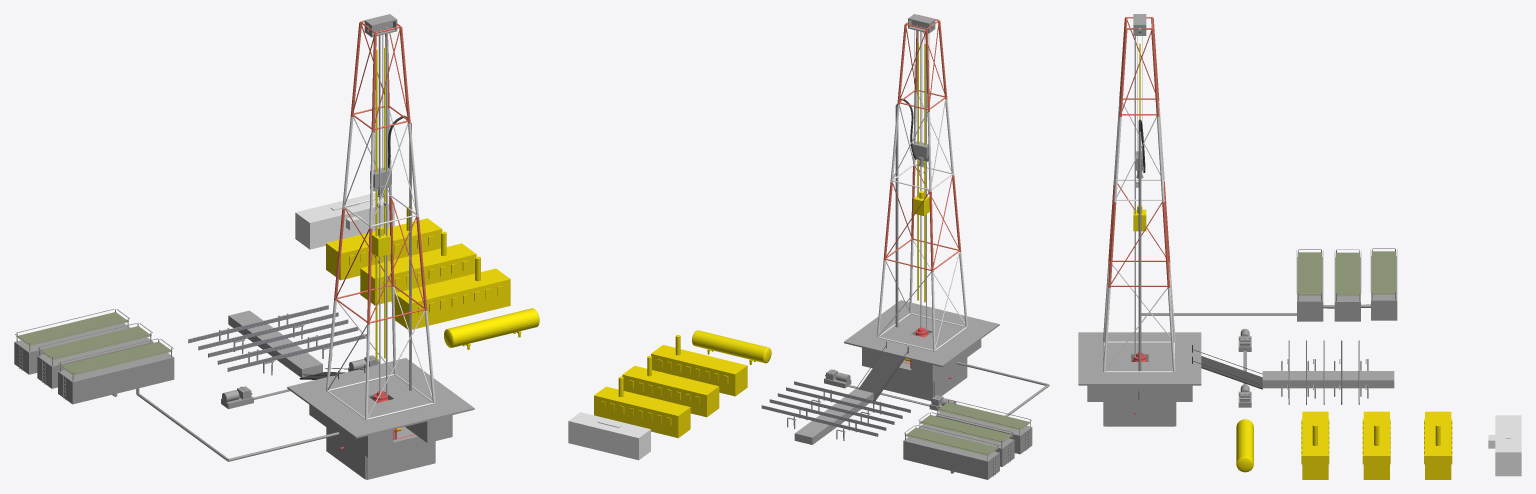
The model's file is Rig_Base_EXPORT_v01.fbx.
3 renders of one model, left to right at view 1: azimuth 30°, elevation 25°; view 2: azimuth 150°, elevation 25°; view 3: azimuth 270°, elevation 25°, orthographic. The views are drawn at different scales.
Visible parts, largest first — view 1: RIG_Derrick_Mast, RIG_Floor, PWR_GenSet_1, MUD_Tank_1, PWR_GenSet_2, PWR_SCR_House, PWR_GenSet_3, GEO_Cellar_Structure, RIG_Substructure, PWR_Fuel_Tank, RIG_Catwalk, RIG_DrillPipe_Stack_Left (+13 smaller); view 2: RIG_Derrick_Mast, RIG_Floor, PWR_GenSet_3, PWR_GenSet_2, PWR_GenSet_1, PWR_SCR_House, MUD_Tank_3, GEO_Cellar_Structure, PWR_Fuel_Tank, RIG_DrillPipe_Stack_Left, RIG_Catwalk, RIG_DrillPipe_Stack_Right (+11 smaller); view 3: RIG_Floor, RIG_Derrick_Mast, RIG_Catwalk, PWR_GenSet_1, PWR_GenSet_2, PWR_GenSet_3, GEO_Cellar_Structure, RIG_Substructure, PWR_SCR_House, Mud_Liquid_2, Mud_Liquid_1, Mud_Liquid_3 (+8 smaller).
Part boxes in pixels (x1=…): RIG_Derrick_Mast: x1=326, y1=20, x2=435, y2=420; RIG_Floor: x1=287, y1=358, x2=474, y2=438; PWR_GenSet_1: x1=394, y1=256, x2=510, y2=329; MUD_Tank_1: x1=58, y1=338, x2=174, y2=404; PWR_GenSet_2: x1=360, y1=231, x2=476, y2=305; PWR_SCR_House: x1=295, y1=192, x2=394, y2=249; PWR_GenSet_3: x1=326, y1=206, x2=442, y2=280; GEO_Cellar_Structure: x1=326, y1=427, x2=435, y2=479; RIG_Substructure: x1=309, y1=396, x2=452, y2=457; PWR_Fuel_Tank: x1=444, y1=308, x2=539, y2=349; RIG_Catwalk: x1=228, y1=310, x2=322, y2=377; RIG_DrillPipe_Stack_Left: x1=248, y1=305, x2=366, y2=356; RIG_Derrick_Mast: x1=876, y1=14, x2=967, y2=351; RIG_Floor: x1=844, y1=300, x2=999, y2=367; PWR_GenSet_3: x1=594, y1=376, x2=690, y2=438; PWR_GenSet_2: x1=622, y1=355, x2=719, y2=417; PWR_GenSet_1: x1=651, y1=335, x2=747, y2=396; PWR_SCR_House: x1=568, y1=412, x2=650, y2=460; MUD_Tank_3: x1=903, y1=425, x2=999, y2=479; GEO_Cellar_Structure: x1=883, y1=358, x2=967, y2=400; PWR_Fuel_Tank: x1=692, y1=330, x2=771, y2=364; RIG_DrillPipe_Stack_Left: x1=761, y1=381, x2=860, y2=424; RIG_Catwalk: x1=794, y1=389, x2=873, y2=444; RIG_DrillPipe_Stack_Right: x1=811, y1=393, x2=910, y2=436; RIG_Floor: x1=1078, y1=332, x2=1201, y2=385; RIG_Derrick_Mast: x1=1103, y1=17, x2=1175, y2=372; RIG_Catwalk: x1=1262, y1=371, x2=1394, y2=388; PWR_GenSet_1: x1=1301, y1=411, x2=1329, y2=479; PWR_GenSet_2: x1=1362, y1=411, x2=1390, y2=479; PWR_GenSet_3: x1=1424, y1=411, x2=1452, y2=479; GEO_Cellar_Structure: x1=1103, y1=402, x2=1176, y2=426; RIG_Substructure: x1=1087, y1=356, x2=1192, y2=401; PWR_SCR_House: x1=1488, y1=415, x2=1521, y2=476; Mud_Liquid_2: x1=1335, y1=252, x2=1360, y2=296; Mud_Liquid_1: x1=1297, y1=252, x2=1322, y2=295; Mud_Liquid_3: x1=1371, y1=251, x2=1396, y2=294.
Bounding box in the file's own units: 5244 × 4928 × 5050.
